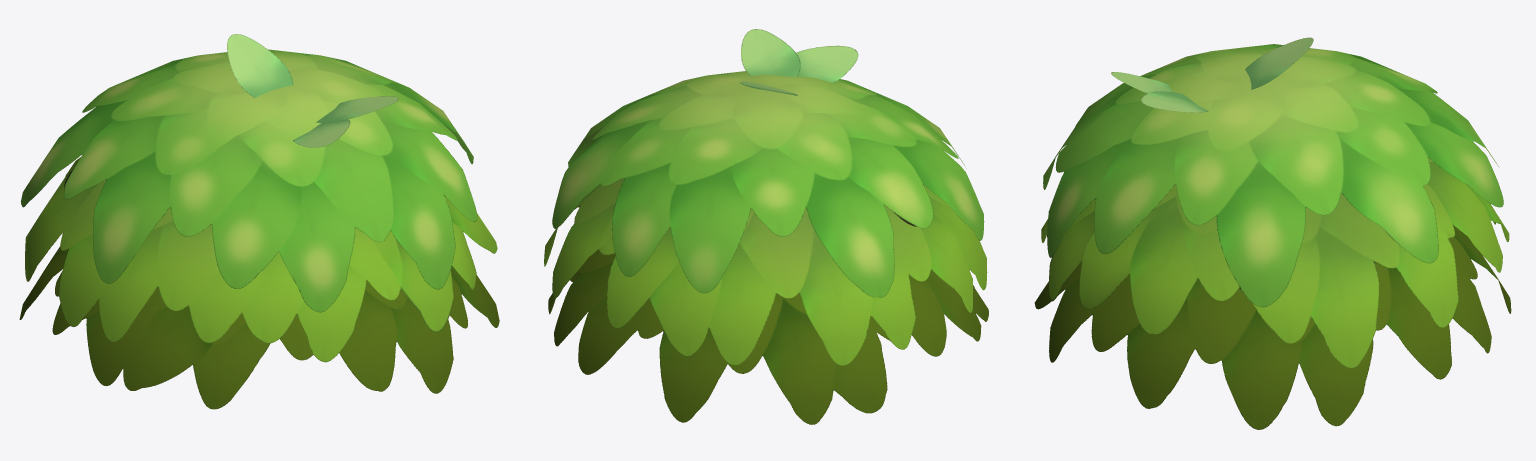
The model's file is Bush01.fbx.
3 renders of one model, left to right at view 1: azimuth 30°, elevation 25°; view 2: azimuth 150°, elevation 25°; view 3: azimuth 270°, elevation 25°, orthographic. The views are drawn at different scales.
Parts seen in each view (by area): view 1: Bush01_LOD0; view 2: Bush01_LOD0; view 3: Bush01_LOD0.
Part boxes in pixels (<box>): Bush01_LOD0: <box>19,34,499,409</box>; Bush01_LOD0: <box>544,29,988,424</box>; Bush01_LOD0: <box>1034,37,1511,429</box>.
Size of what is drawn, in the model's own units: 178 by 121 by 178.
Materials: 1 (1 with a texture image).
